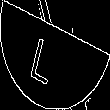L_N: (39, 26, 71, 84)
